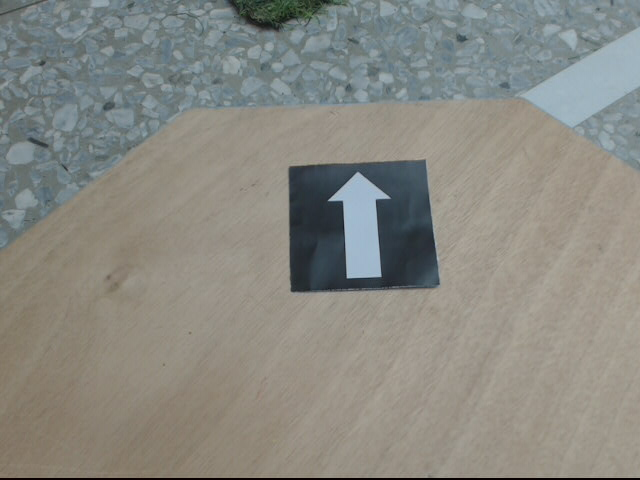straight: (286, 159, 440, 293)
